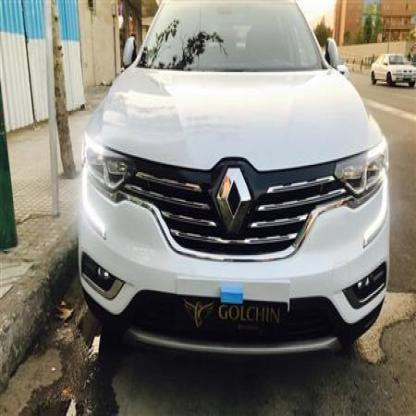Car: (70, 0, 398, 377), (369, 48, 416, 88)
